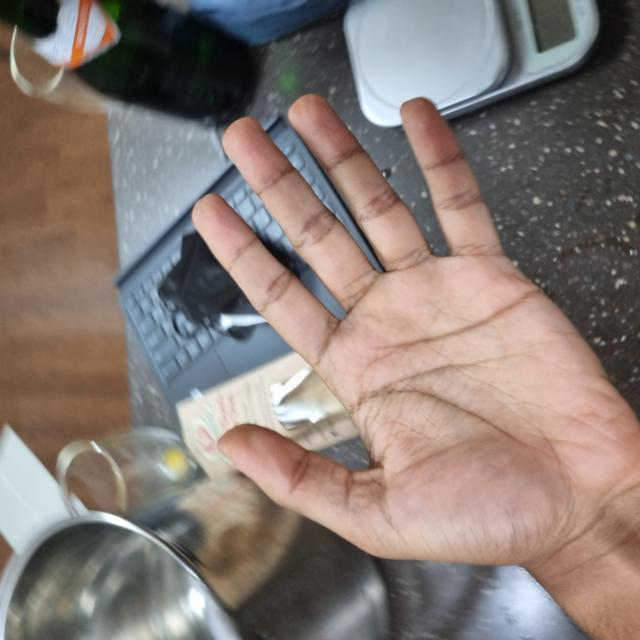Paper: (71, 201, 541, 639)
